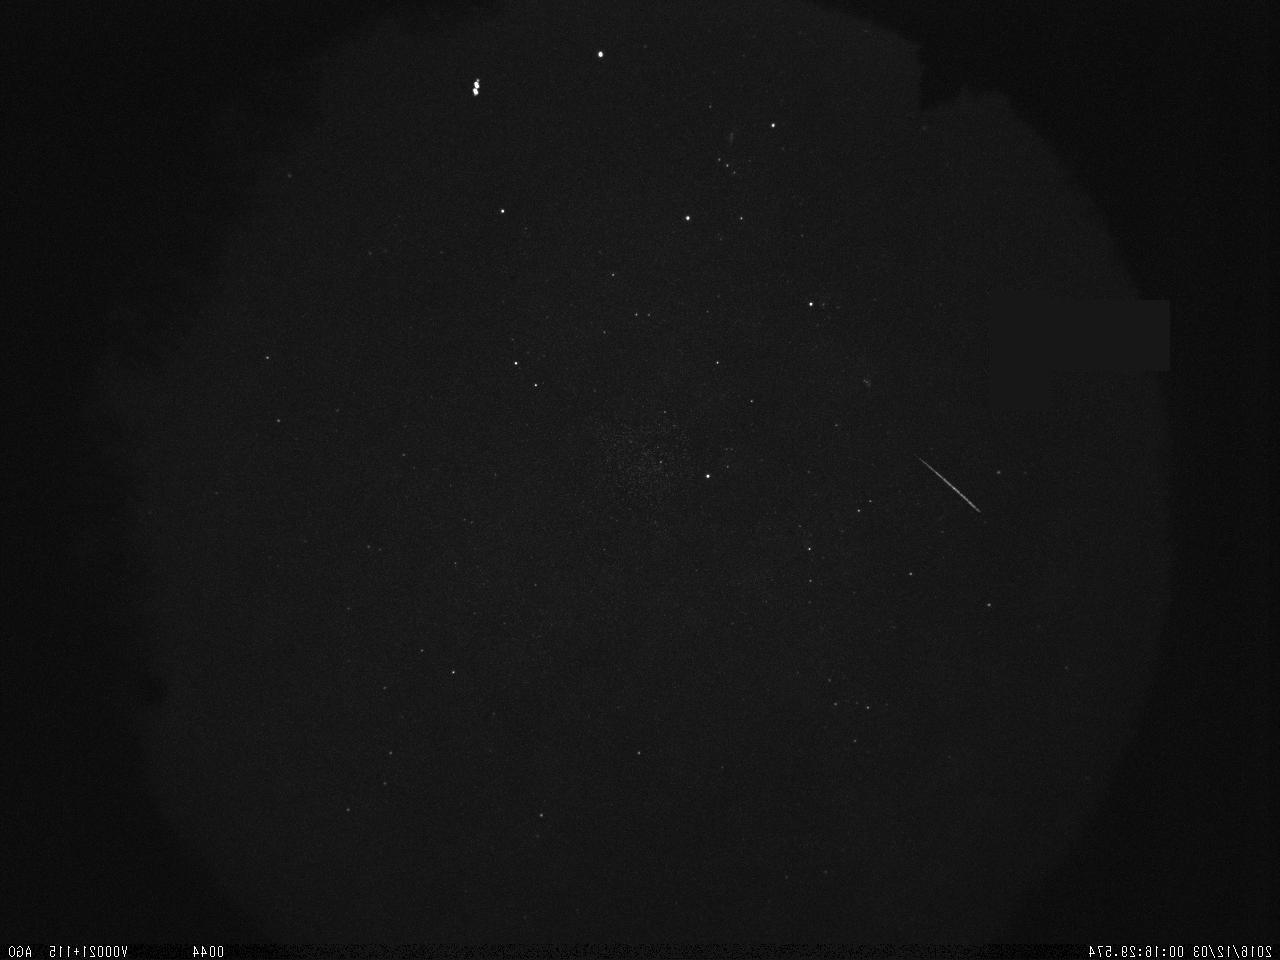meteor: (892, 428, 1030, 531)
